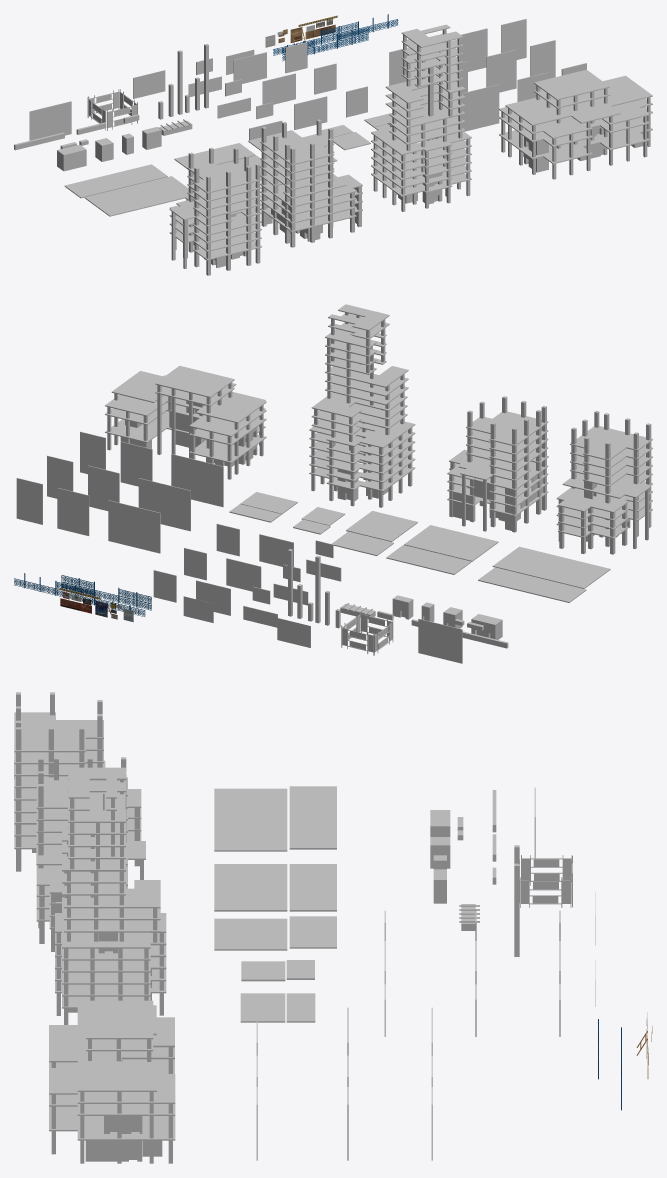
The model's file is pieces.FBX.
The picture shows the model from 3 angles, top to bottom: view 1: azimuth 30°, elevation 25°; view 2: azimuth 150°, elevation 25°; view 3: azimuth 270°, elevation 25°; orthographic projection. The views are drawn at different scales.
Visible parts, largest first — view 1: Box155, Box171, Box005, Box333, Object215, Object342, Object115, Box129, Object039, Object009, Object210, Object015 (+28 smaller); view 2: Box155, Box005, Box171, Box333, Object016, Object115, Object215, Object117, Object341, Object342, Object039, Box129 (+27 smaller); view 3: Box155, Box005, Box171, Box333, Object341, Object215, Object342, Box129, Object031, Object033, Box001, Object030 (+11 smaller).
Boxes of the visible parts, <box> form: Box155: <box>371,24,471,211</box>; Box171: <box>260,119,362,247</box>; Box005: <box>169,147,262,275</box>; Box333: <box>84,176,188,216</box>; Object215: <box>534,69,609,108</box>; Object342: <box>64,164,167,198</box>; Object115: <box>462,84,499,131</box>; Box129: <box>505,75,652,114</box>; Object039: <box>29,101,71,140</box>; Object009: <box>486,49,516,92</box>; Object210: <box>517,98,612,125</box>; Object015: <box>457,28,487,71</box>; Box155: <box>309,304,415,507</box>; Box005: <box>556,410,652,554</box>; Box171: <box>447,396,548,532</box>; Box333: <box>492,546,610,588</box>; Object016: <box>108,500,160,553</box>; Object115: <box>171,454,223,507</box>; Object215: <box>155,365,234,406</box>; Object117: <box>138,478,190,531</box>; Object341: <box>404,525,498,561</box>; Object342: <box>478,567,586,602</box>; Object039: <box>418,619,462,663</box>; Box129: <box>111,371,250,423</box>; Box155: <box>55,767,166,1024</box>; Box005: <box>14,692,141,871</box>; Box171: <box>36,757,145,951</box>; Box333: <box>214,788,287,851</box>; Object341: <box>214,864,287,911</box>; Object215: <box>86,1000,153,1051</box>; Object342: <box>289,786,336,849</box>; Box129: <box>77,1005,156,1091</box>; Object031: <box>214,918,287,950</box>; Object033: <box>289,864,336,911</box>; Box001: <box>77,1116,175,1140</box>; Object030: <box>289,916,336,948</box>.
Bounding box in the file's own units: 21521 × 16471 × 6574.
